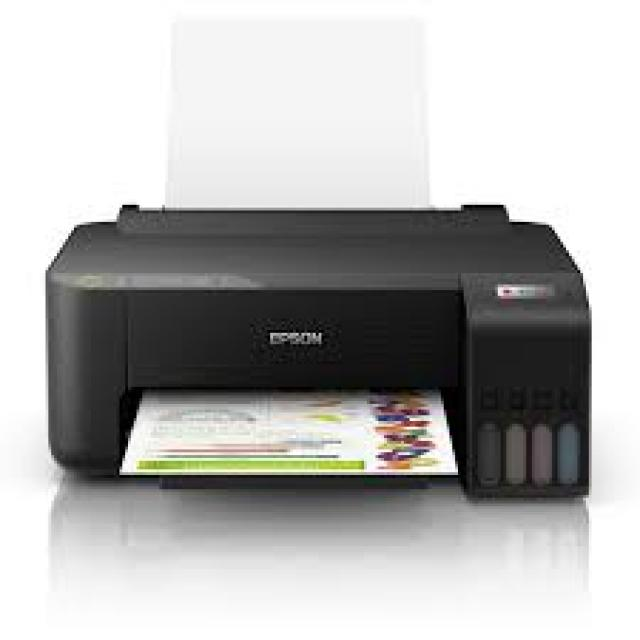printer: (42, 0, 592, 501)
